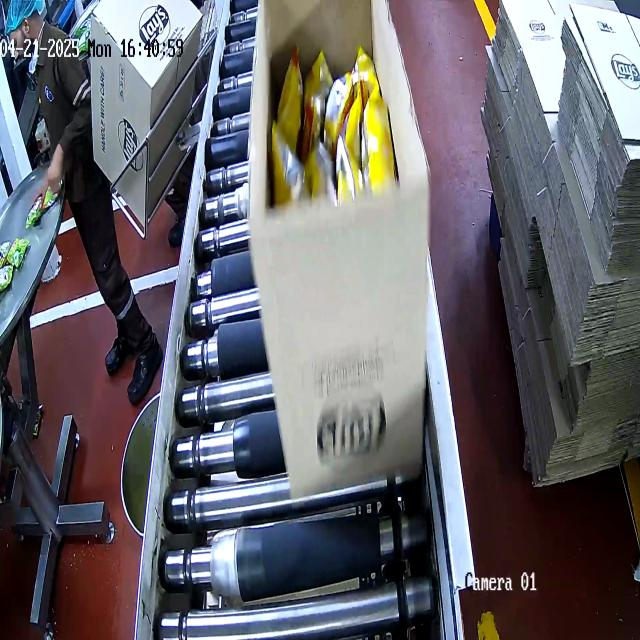SALTED: (270, 45, 390, 208)
